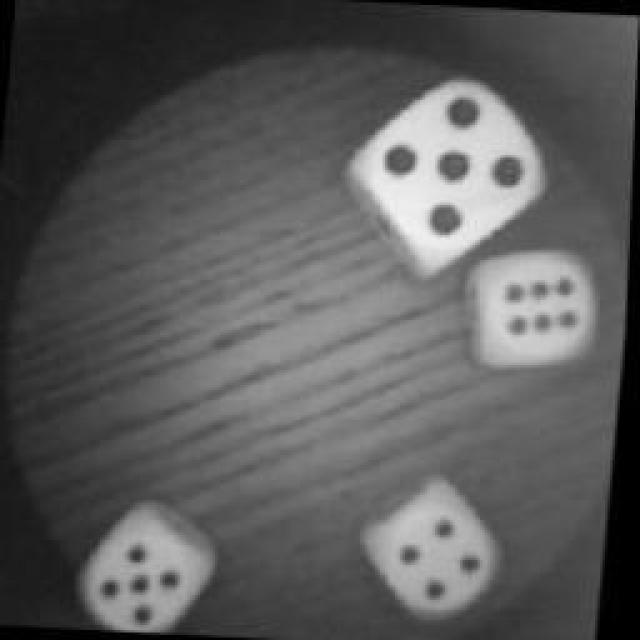dice_4: (359, 480, 511, 625)
dice_5: (348, 69, 550, 281), (82, 507, 218, 635)
dice_6: (474, 242, 604, 370)
